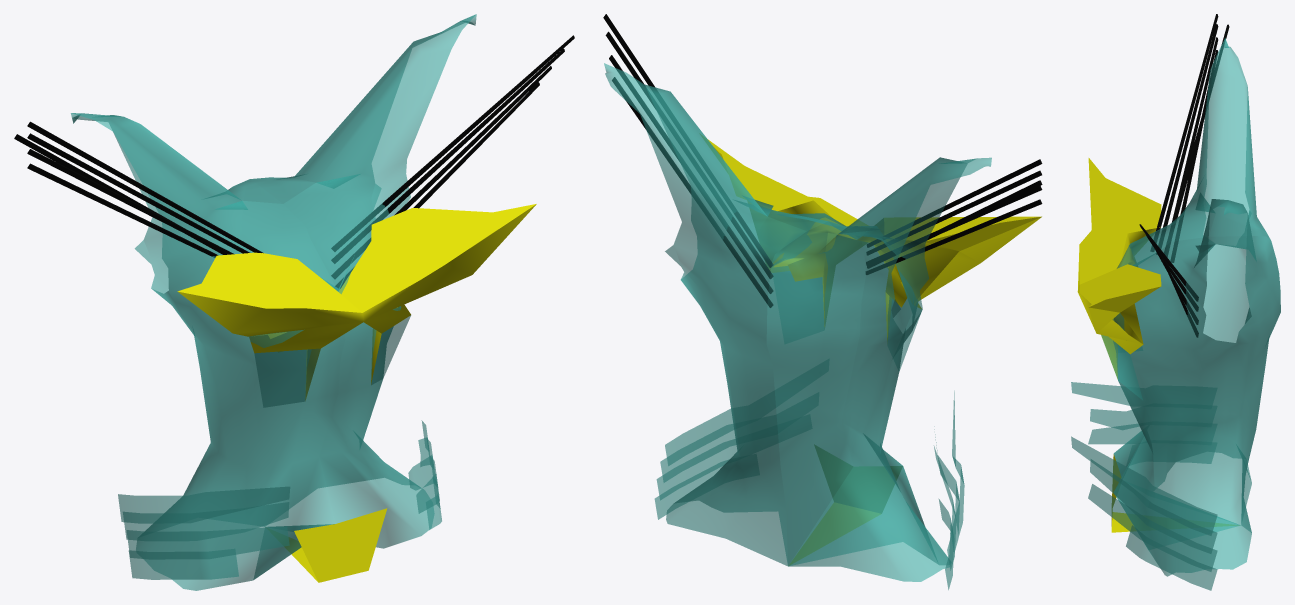
The model's file is MechBody.fbx.
3 renders of one model, left to right at view 1: azimuth 30°, elevation 25°; view 2: azimuth 150°, elevation 25°; view 3: azimuth 270°, elevation 25°, orthographic. The views are drawn at different scales.
Visible parts, largest first — view 1: polySurface69; view 2: polySurface69; view 3: polySurface69.
Boxes of the visible parts, x1,y1,x2,y2 form: polySurface69: (14,14,574,590); polySurface69: (603,14,1042,589); polySurface69: (1071,14,1280,590).
Size of the model in its own units: 4.52 by 4.07 by 1.89.
